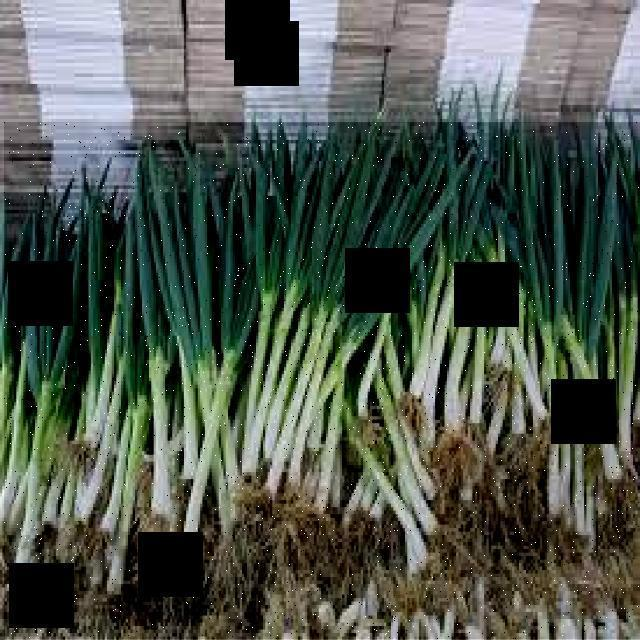green_onion: (248, 118, 408, 501), (143, 140, 266, 543), (543, 119, 640, 528), (425, 96, 533, 458), (69, 173, 141, 570), (5, 178, 72, 557)
